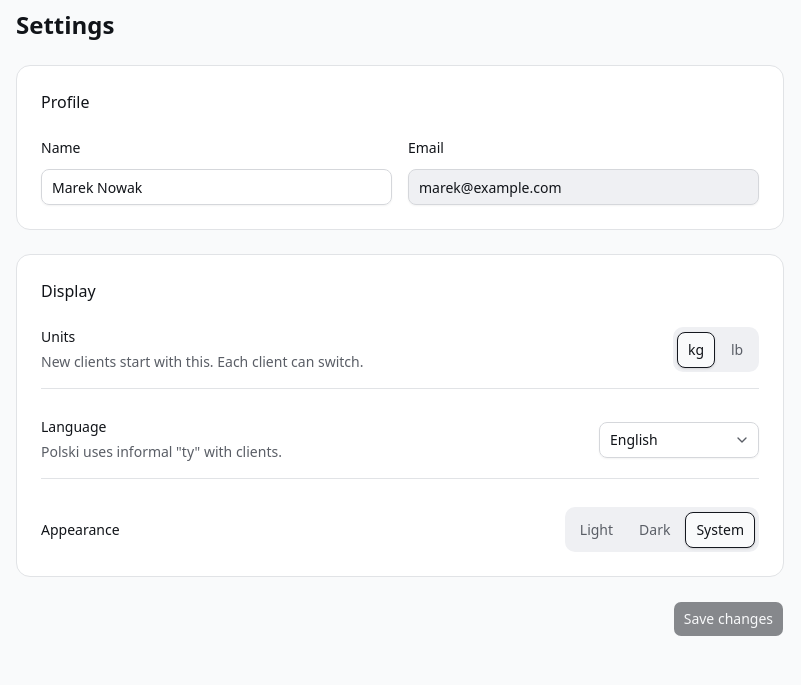
Test: SettingsPage › shows the name message for the server's refusal
Replace the text in the field labelled "Name" with "Marek Kowalski" at (216, 187), box [41,169,392,205]
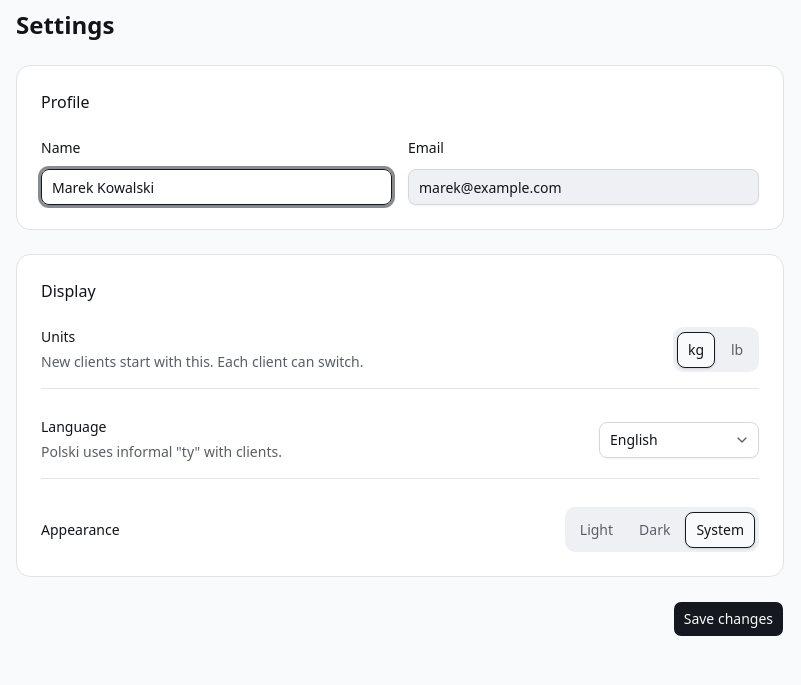
Click the button "Save changes".
click(728, 619)  # box [673,601,784,637]
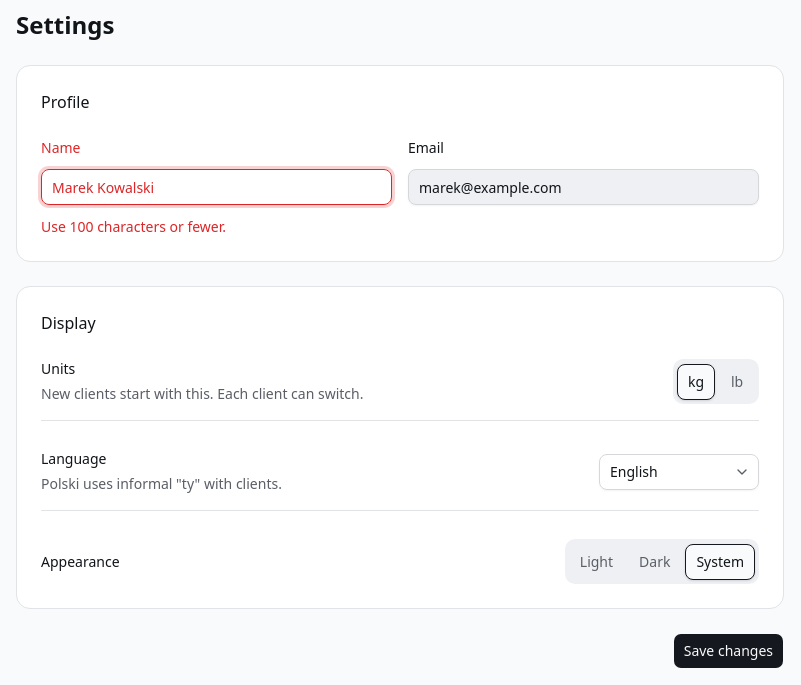
expect the text "Use 100 characters or fewer." is shown: met, box [41,217,226,236]
